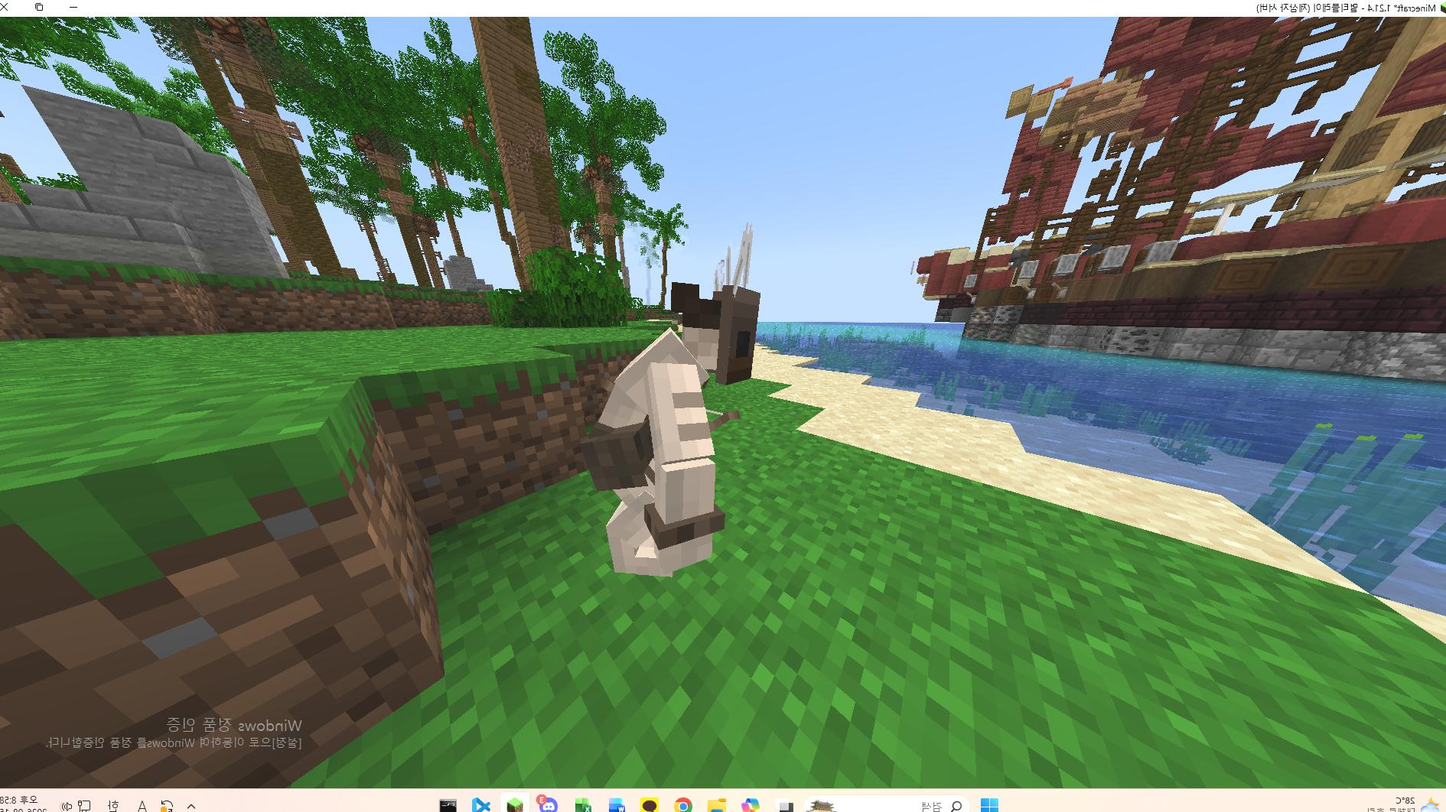bow_indian: (518, 211, 823, 622)
